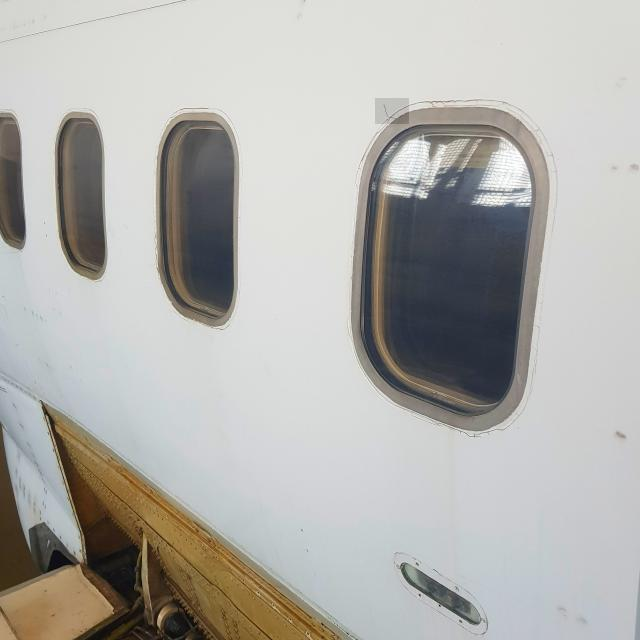crack: (376, 99, 410, 125)
